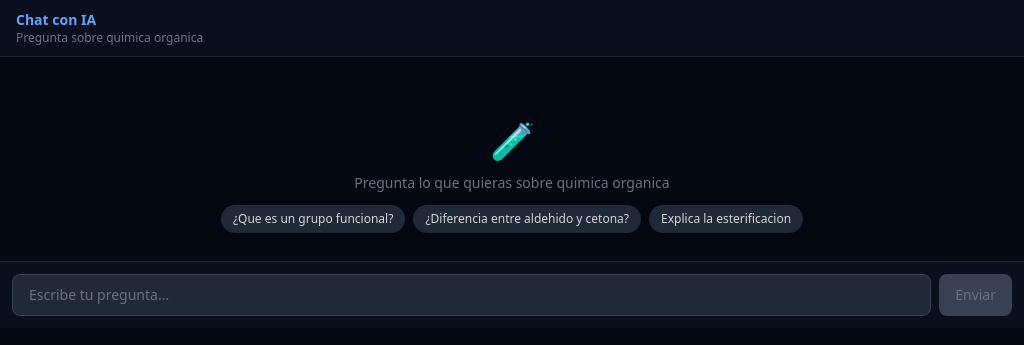
Test: Chat › sends message and shows user bubble on submit
In the field with placeholder "Escribe tu pregunta...": (472, 295) [12,274,931,316], type "test message"
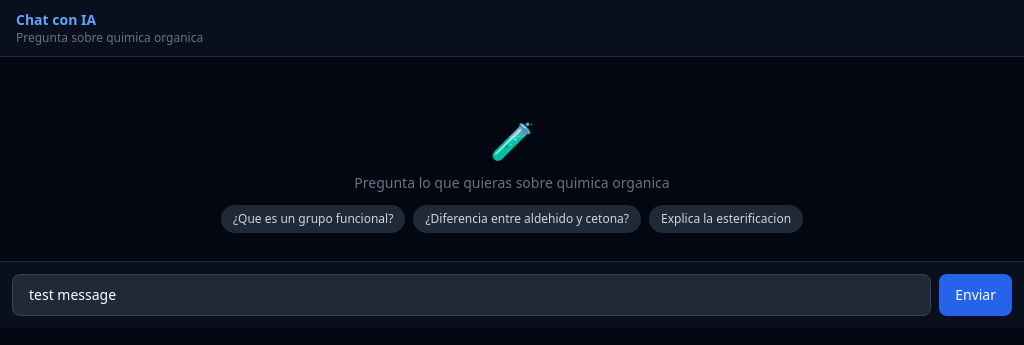
Submit the form with placeholder "Escribe tu pregunta...", box [0,261,1023,328]
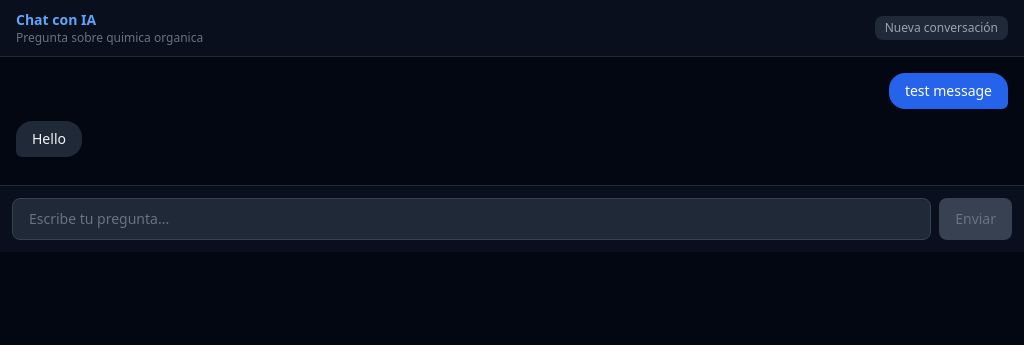
Expected: the text "test message" is shown, [905,81,992,101]
Expected: the field with placeholder "Escribe tu pregunta..." is empty, [12,198,931,240]
Expected: the text "Hello" is shown, [32,129,66,149]
